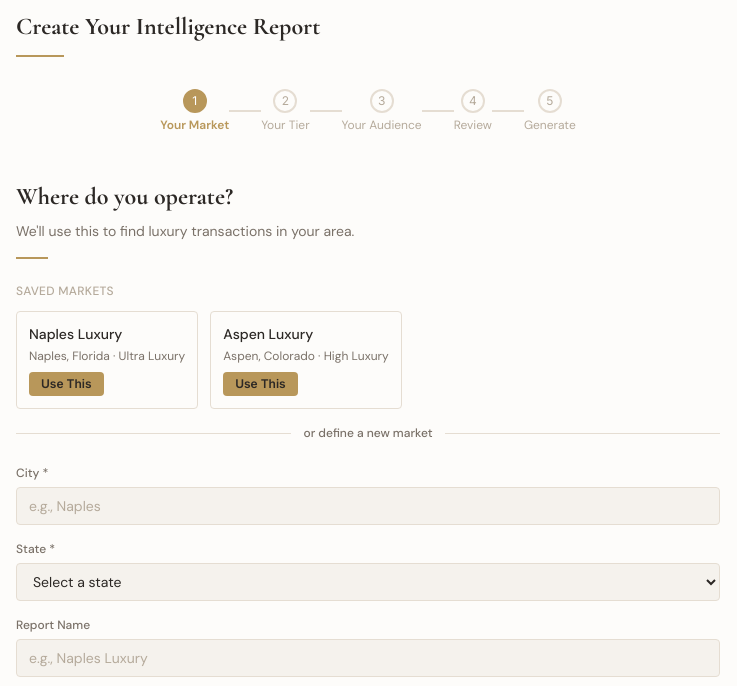
Test case: Flow Persistence (#158) › CreationFlowShell with persistence › jumps to step 2 (audience) when a saved market is selected via Use This
Click the button "Use This" below "Florida".
click(66, 384)  # box top-left (29, 372), bottom-right (104, 396)
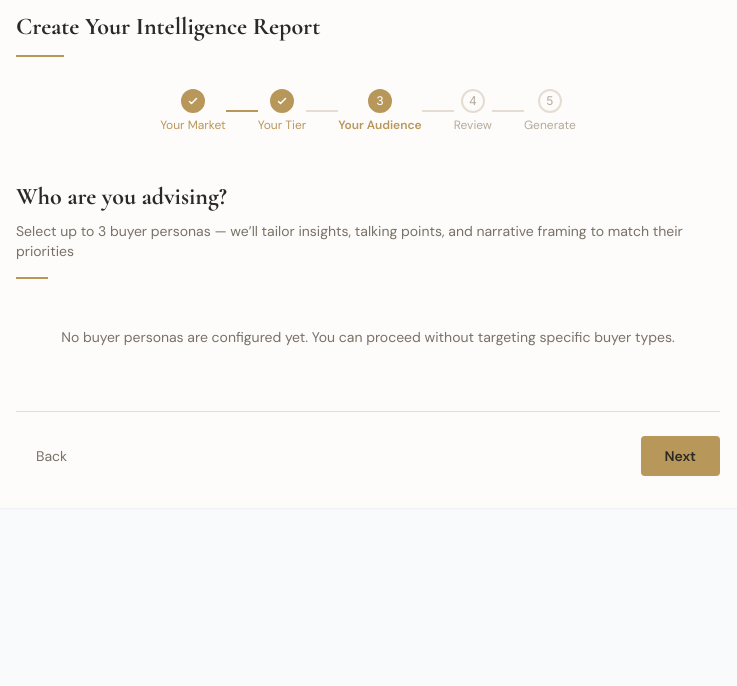
Expected: the element with test id "step-content-2" is shown, top-left (16, 165), bottom-right (720, 387)
